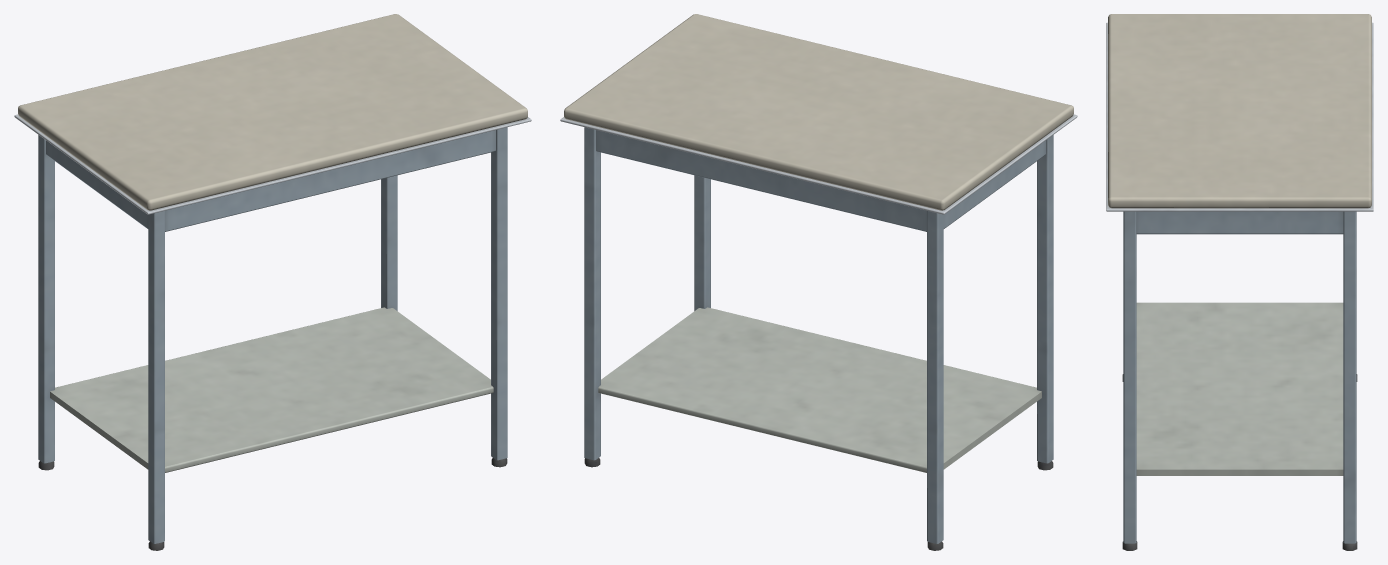
The model's file is Shop_PackingTable.fbx.
3 renders of one model, left to right at view 1: azimuth 30°, elevation 25°; view 2: azimuth 150°, elevation 25°; view 3: azimuth 270°, elevation 25°, orthographic.
Parts seen in each view (by area): view 1: Shop_PackingTable; view 2: Shop_PackingTable; view 3: Shop_PackingTable.
Boxes of the visible parts, x1=… form: Shop_PackingTable: x1=14, y1=14, x2=531, y2=550; Shop_PackingTable: x1=560, y1=14, x2=1077, y2=550; Shop_PackingTable: x1=1106, y1=14, x2=1373, y2=550.
Bounding box in the file's own units: 1.01 × 0.9 × 0.608.
